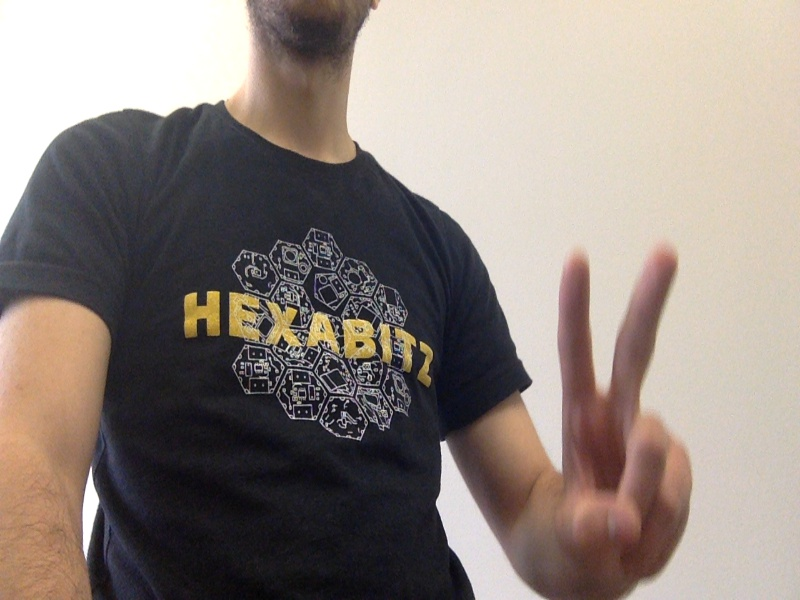2-hand: (557, 247, 692, 571)
